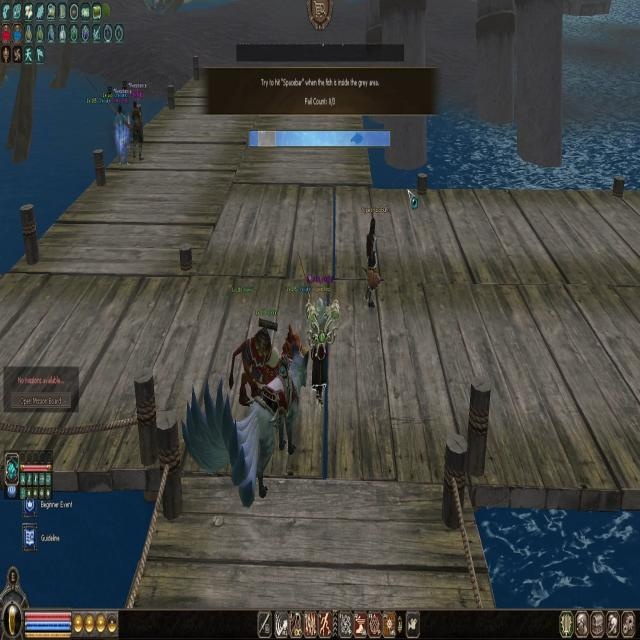box: (258, 131, 276, 146)
fishes: (351, 132, 364, 146)
